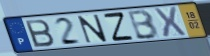2: (52, 17, 82, 47)
B: (127, 8, 161, 41), (24, 18, 57, 49)
N: (77, 13, 109, 44)
X: (152, 6, 189, 40)
Z: (102, 11, 136, 43)
